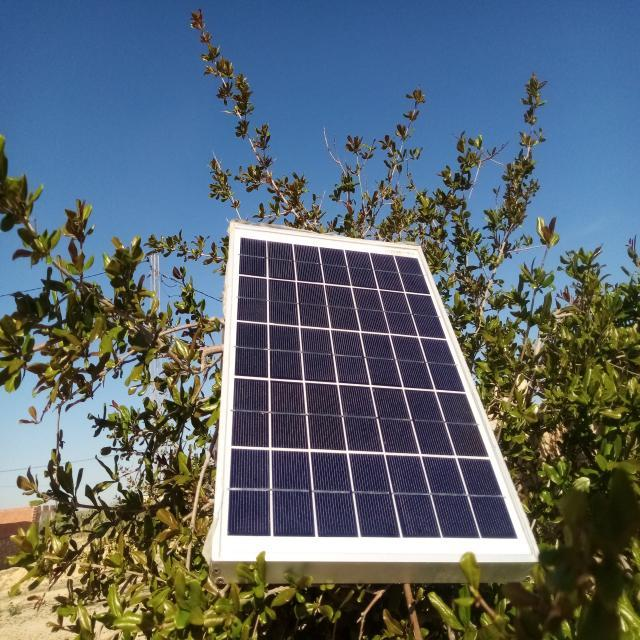no faulty: (215, 224, 537, 576)
